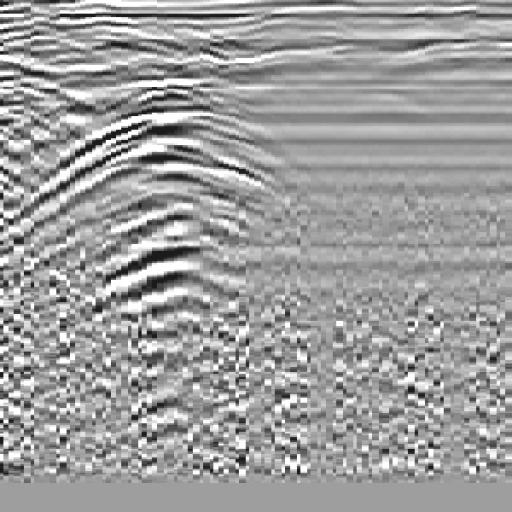metalic: (16, 107, 324, 300)
